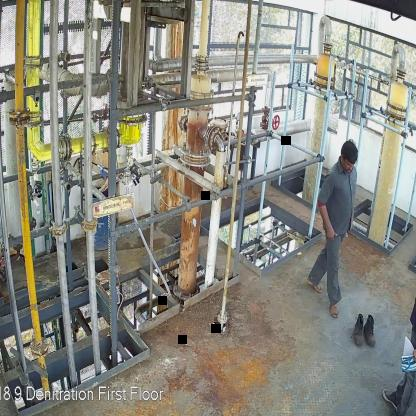no_shoes: (305, 275, 323, 294), (327, 297, 340, 318)
shoes: (362, 312, 380, 353), (350, 313, 365, 346)
